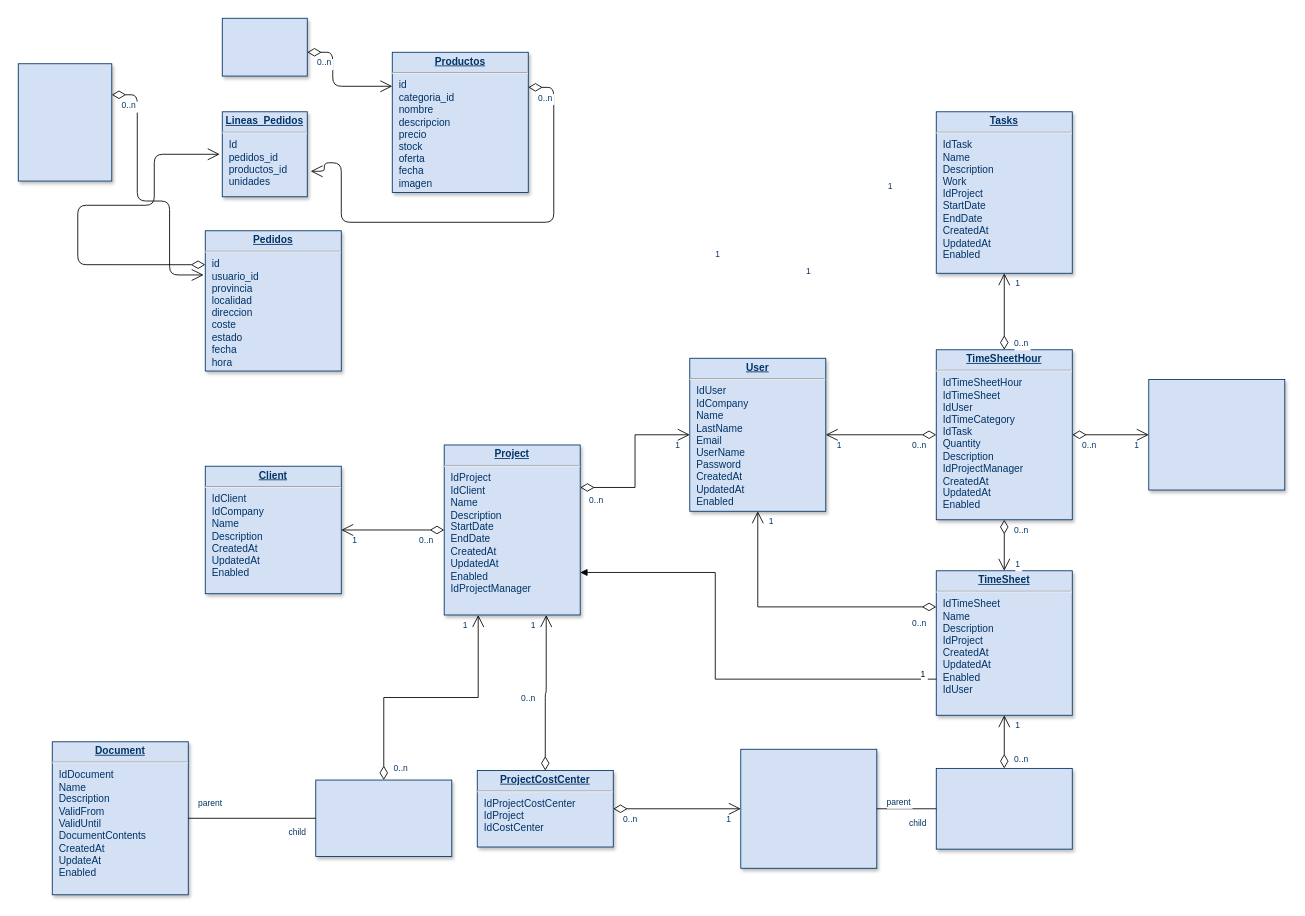
The diagram is 1305 pixels wide and 916 high, and some of its shapes have lost their labels. Each missing label, with the centre of its shape:
"Categorias Id Nombre" belongs at point 265,48.
"CostCenter IdCostCenter Name Description CreatedAt UpdatedAt Enabled" belongs at point 809,809.
"ProjectDocument IdProjectDocument IdProject IdDocument" belongs at point 384,819.
"TimeCategory IdTimeCategory Name Description CreatedAt UpdatedAt Enabled" belongs at point 1217,435.
"TimeSheetCostCenter IdTimeSheetCostCenter IdTimeSheet IdCostCenter" belongs at point 1004,809.
"Usuarios Id nombres apellidos email password rol image" belongs at point 65,123.
